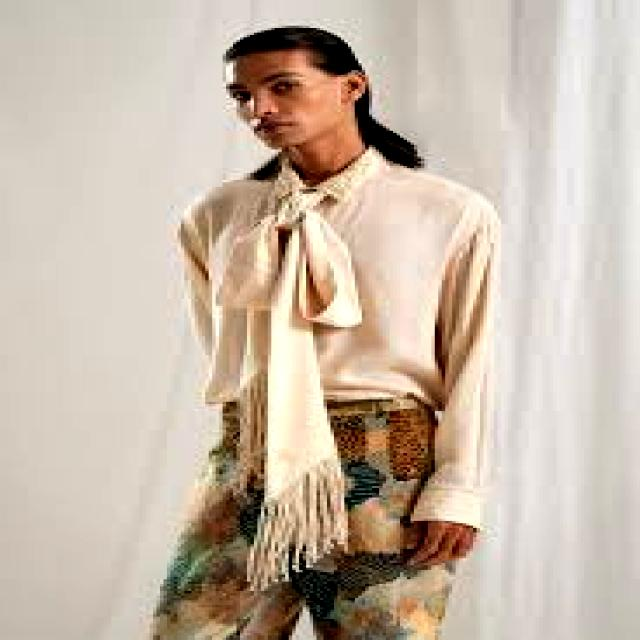face: (227, 50, 365, 149)
lower-wear: (150, 398, 455, 639)
top-wear: (178, 145, 500, 527)
